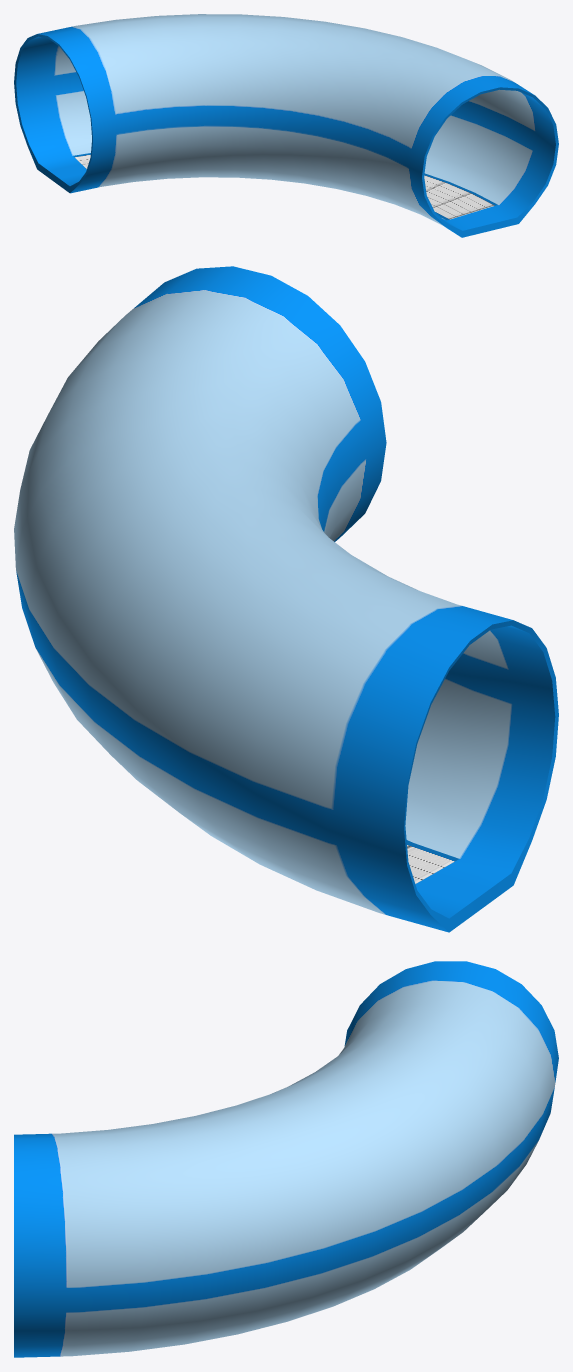
The model's file is FUT0110021.fbx.
The picture shows the model from 3 angles, top to bottom: view 1: azimuth 30°, elevation 25°; view 2: azimuth 150°, elevation 25°; view 3: azimuth 270°, elevation 25°; orthographic projection. The views are drawn at different scales.
Parts seen in each view (by area): view 1: smFUT0110021; view 2: smFUT0110021; view 3: smFUT0110021.
Boxes of the visible parts, bbox=[...] form: smFUT0110021: bbox=[14, 14, 558, 237]; smFUT0110021: bbox=[14, 266, 558, 932]; smFUT0110021: bbox=[14, 961, 558, 1357].
Size of what is drawn, in the model's own units: 540 by 211 by 540.
Materials: 1 (1 with a texture image).
